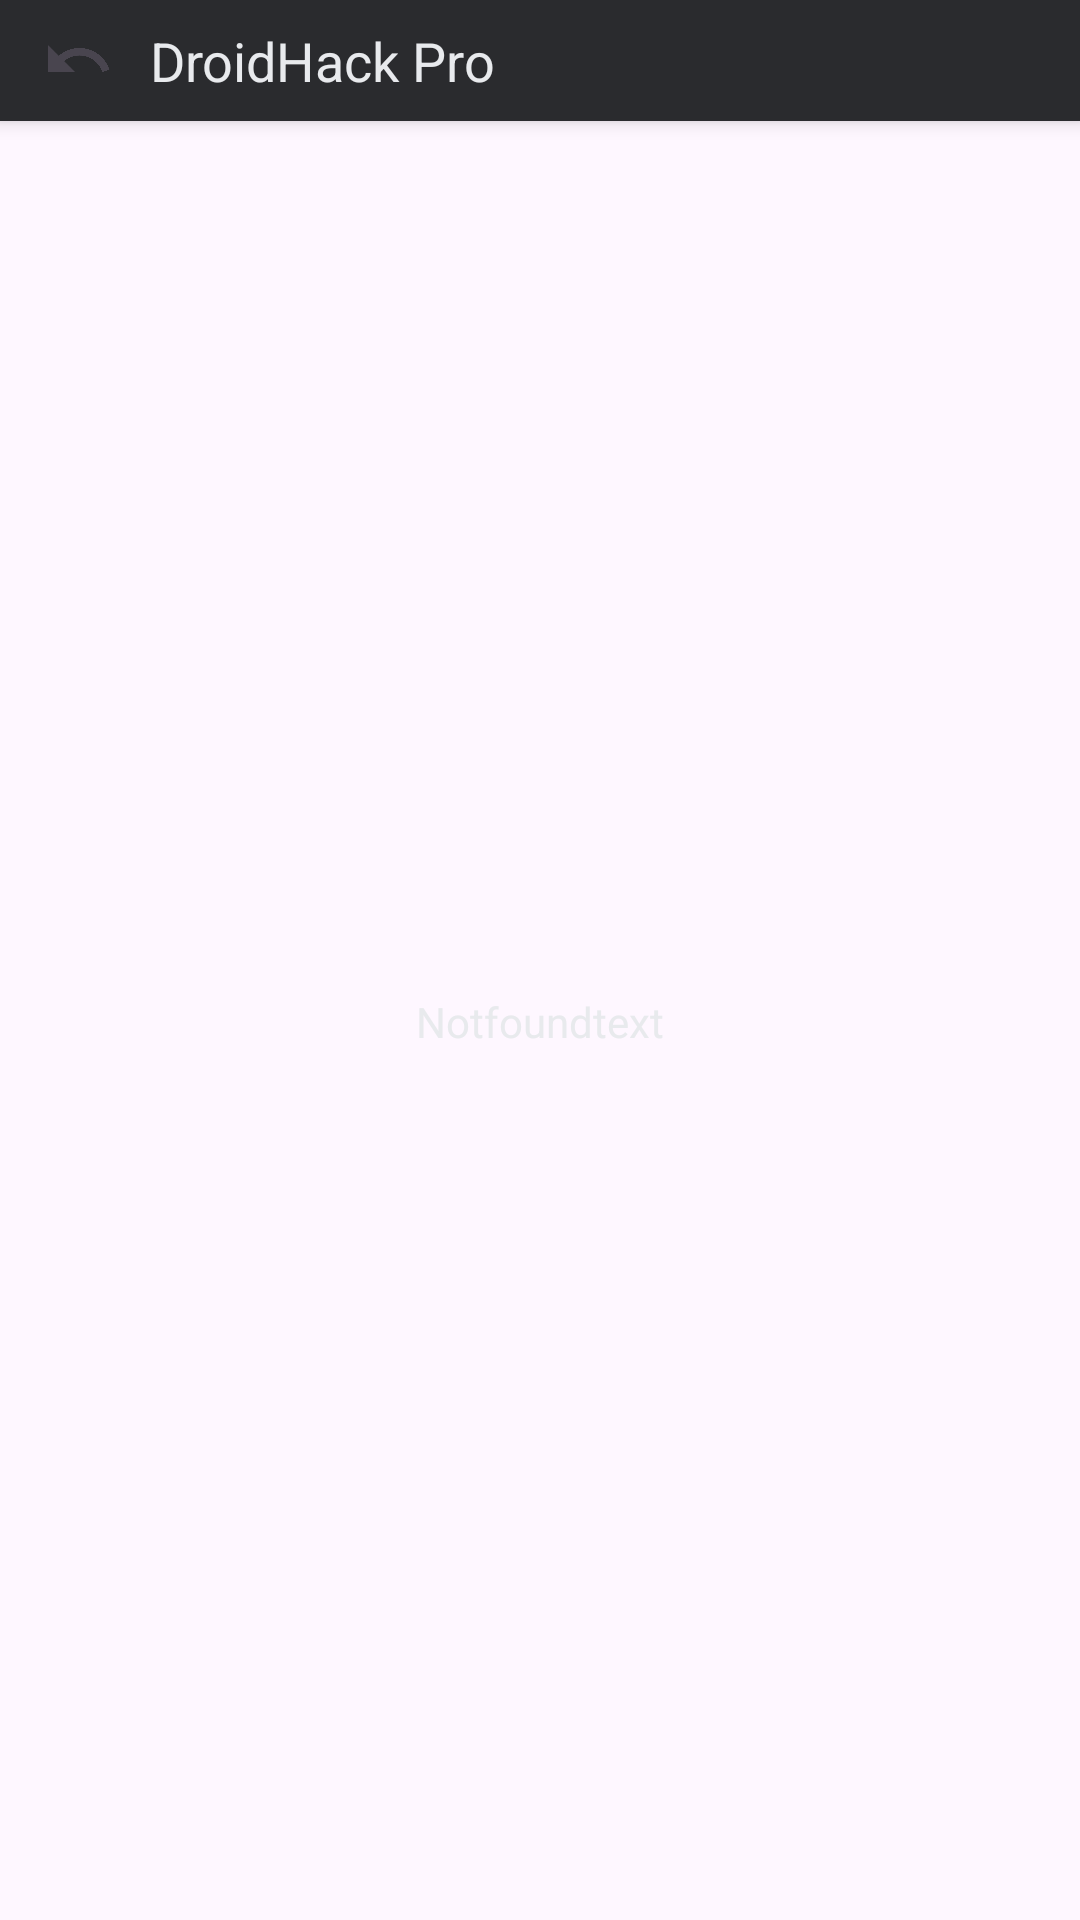

Named icons in this screenshot (1080px×1920px) and their centers, [x,y]:
undo: [78,59]
